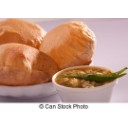poori: (41, 21, 93, 67), (1, 43, 57, 83), (1, 19, 47, 47)
